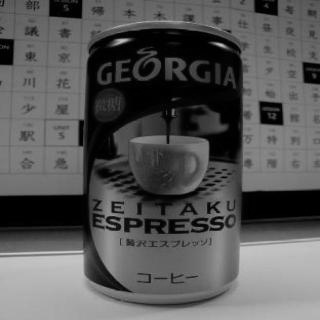alumunium_can: (82, 20, 245, 306)
